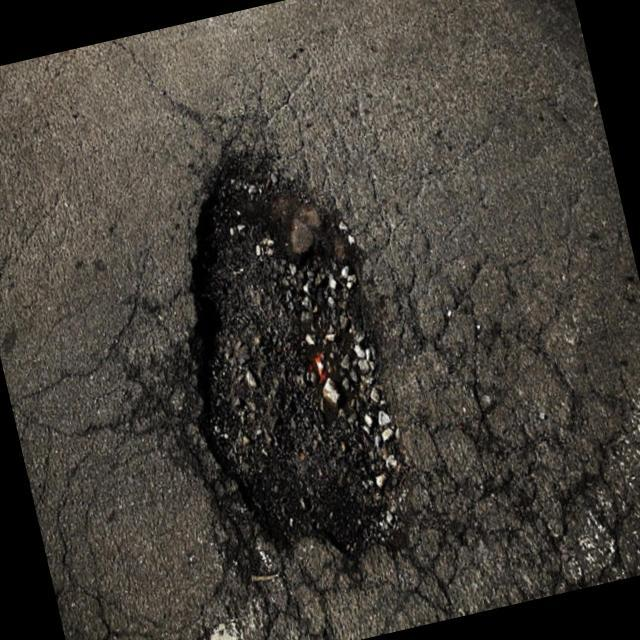Pothole: (102, 106, 440, 608)
